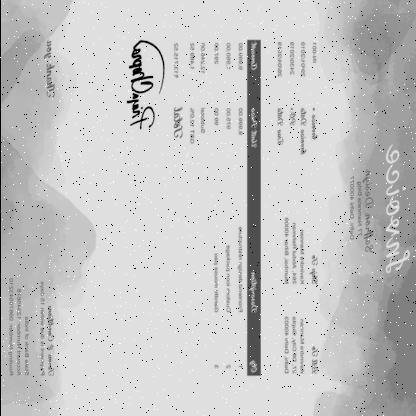Paragraph: (6, 276, 55, 378), (275, 40, 318, 156), (382, 142, 410, 275), (282, 216, 319, 287), (347, 166, 375, 255), (283, 314, 318, 376)
Table: (170, 40, 260, 376)
